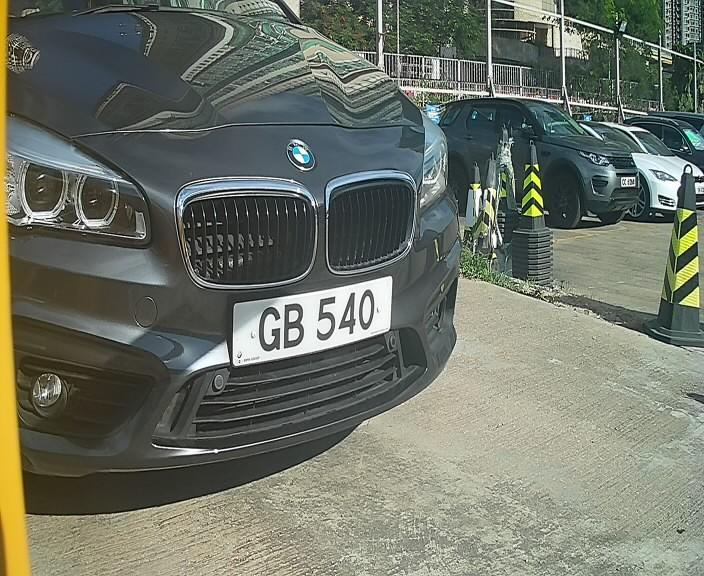privatecar: (2, 15, 492, 498)
